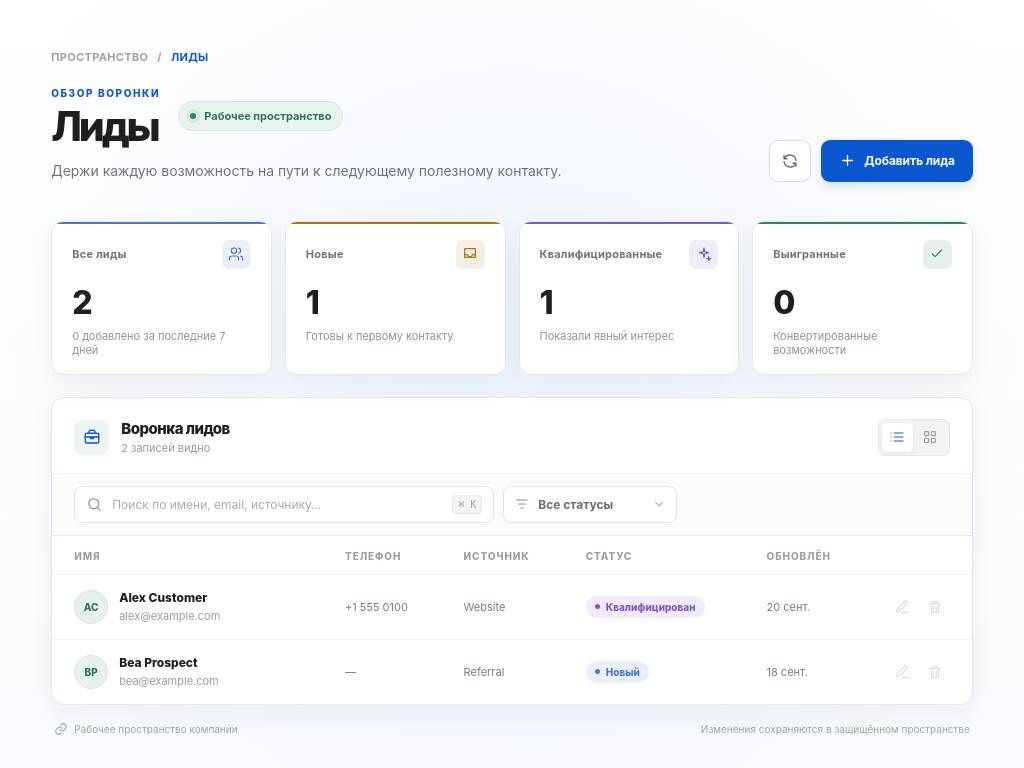
LeadsPage › loads and filters leads by search and status
The width and height of the screenshot is (1024, 768).
Expected: the text "Alex Customer" is shown, [119,590,220,605]
Expected: the text "Bea Prospect" is shown, [119,655,198,670]
Type "alex" into the search field at (278, 504), box [103,497,452,512]
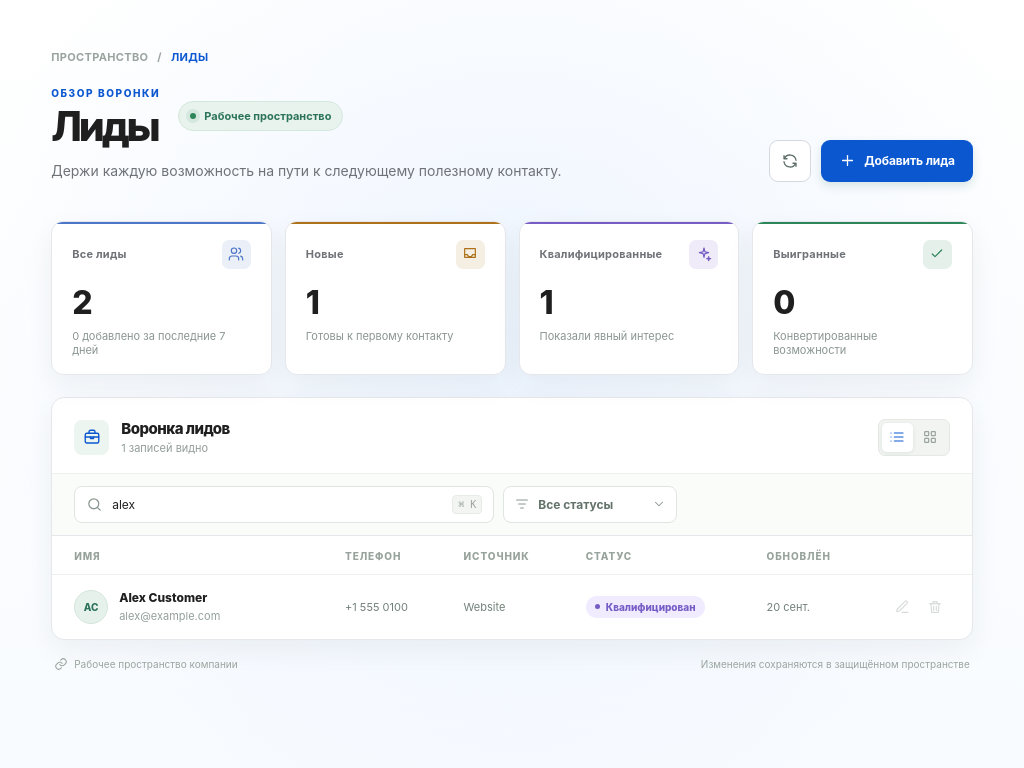
Expected: the text "Alex Customer" is shown, [119,590,220,605]
Now the text "Bea Prospect" is gone
Select "Новый" in the dropdown named "фильтр по статусу" at (591, 504), box [538,497,644,512]
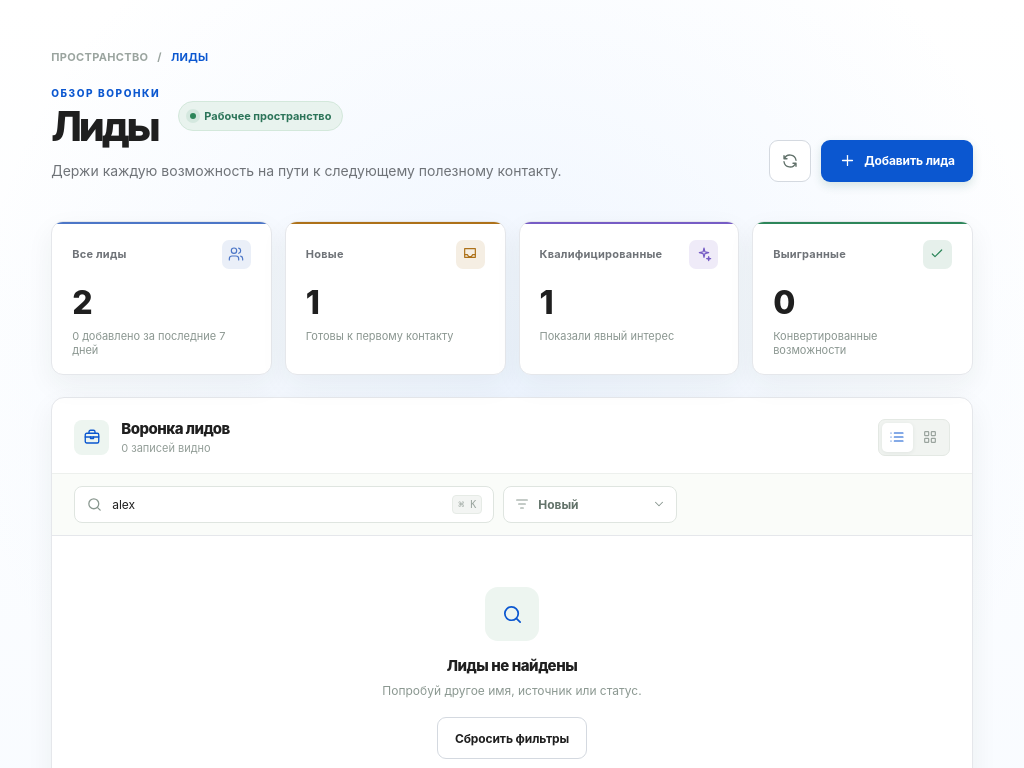
Now the heading "Лиды не найдены" is shown, box [447,656,577,675]
